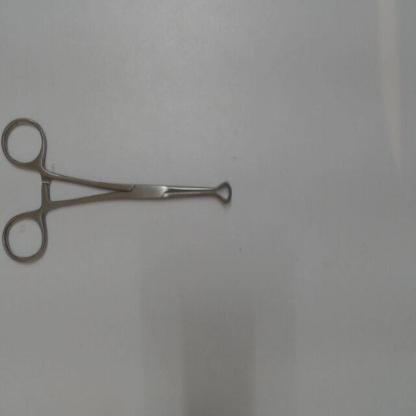Babcock Tissue Forceps: (0, 111, 239, 269)
